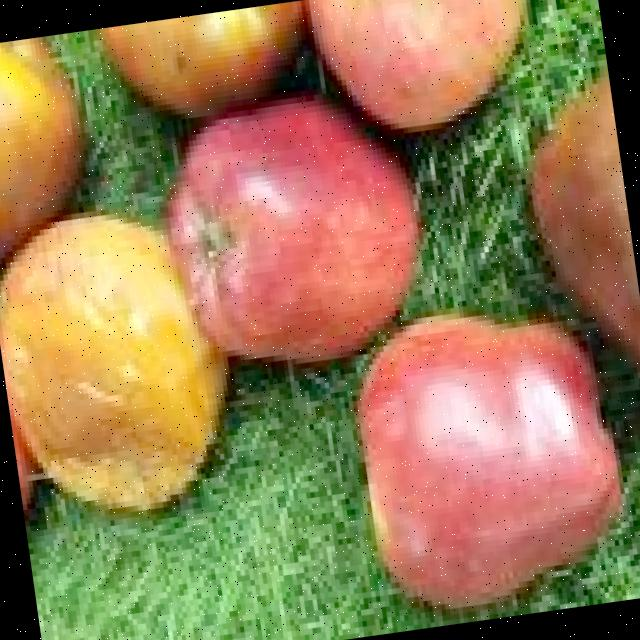Bad_Apple 0-1 day: (0, 37, 222, 508), (533, 72, 640, 347), (107, 0, 302, 117)
Good_Apple 10-21 days: (359, 316, 620, 602), (167, 98, 418, 362), (311, 0, 521, 129)
